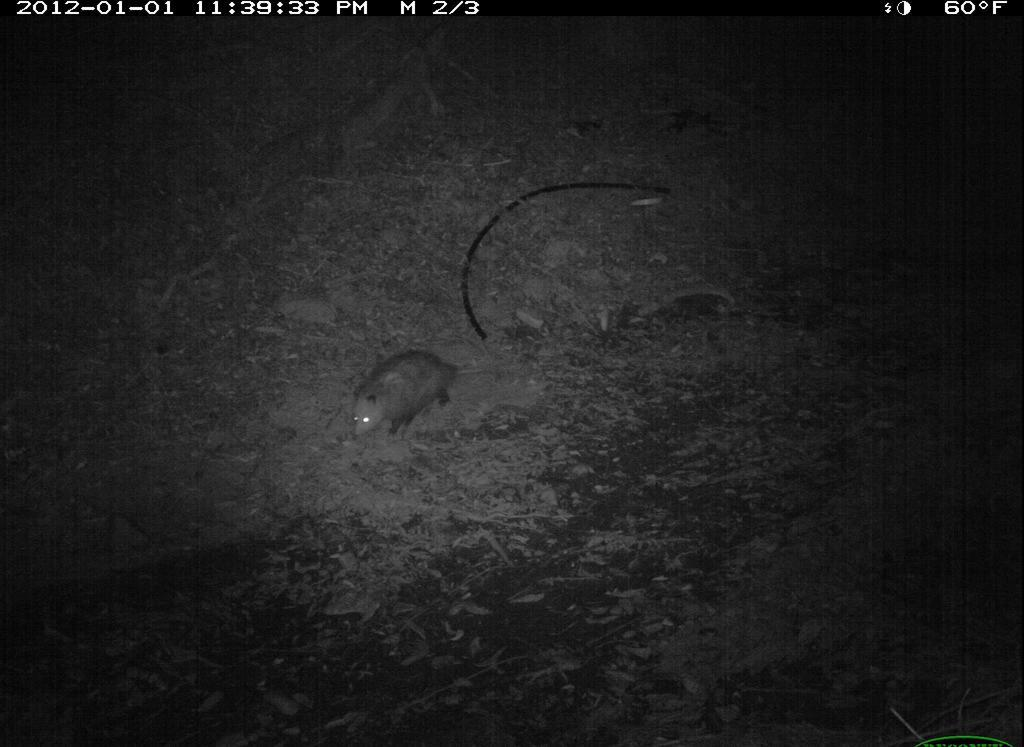opossum: (347, 341, 539, 451)
